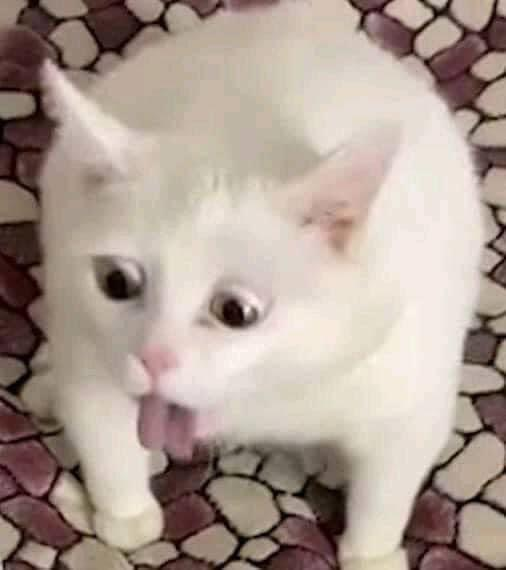cat: (38, 18, 485, 567)
